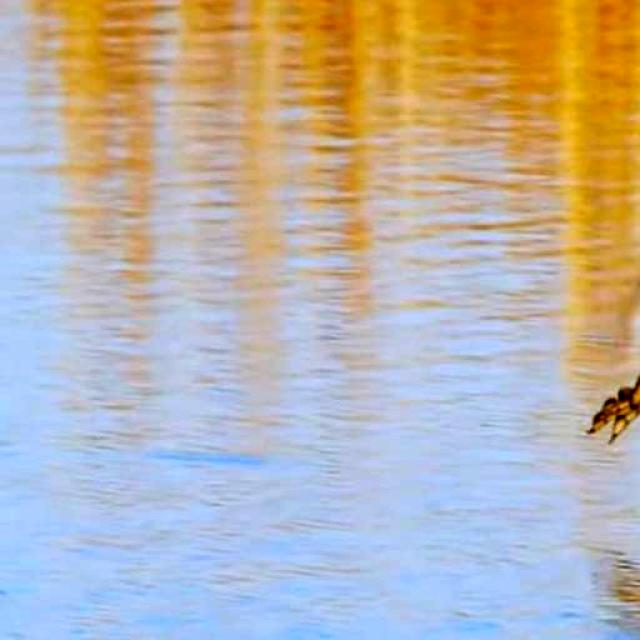airplane: (588, 202, 640, 446)
